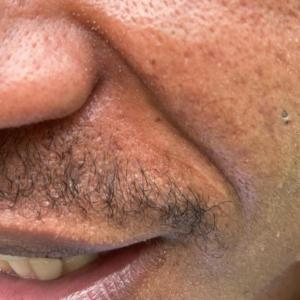Oily-Skin: (96, 0, 289, 46)
